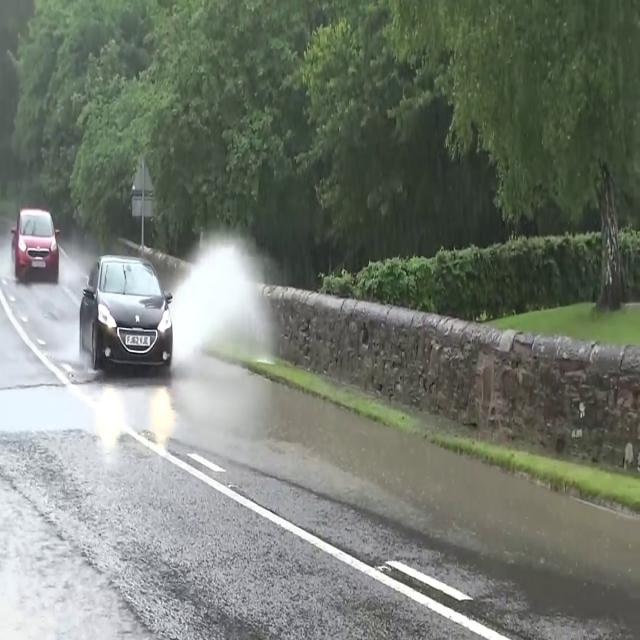license-plate-annotation: (121, 334, 152, 348)
